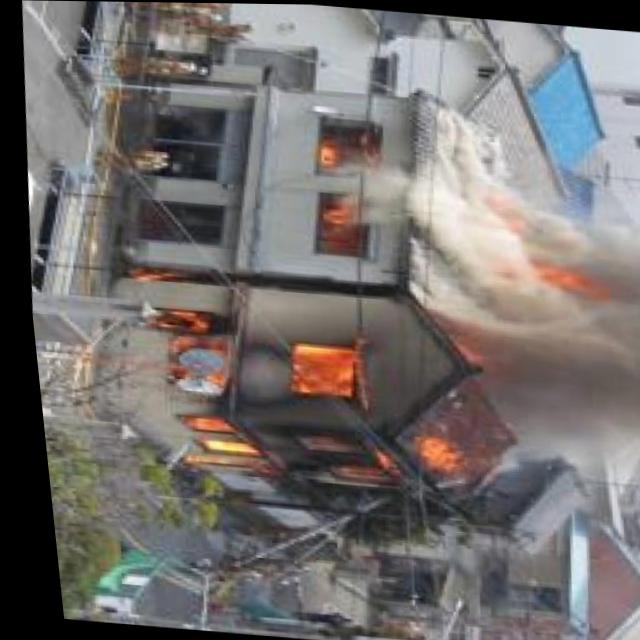Fire: (133, 297, 469, 496), (304, 126, 358, 245)
